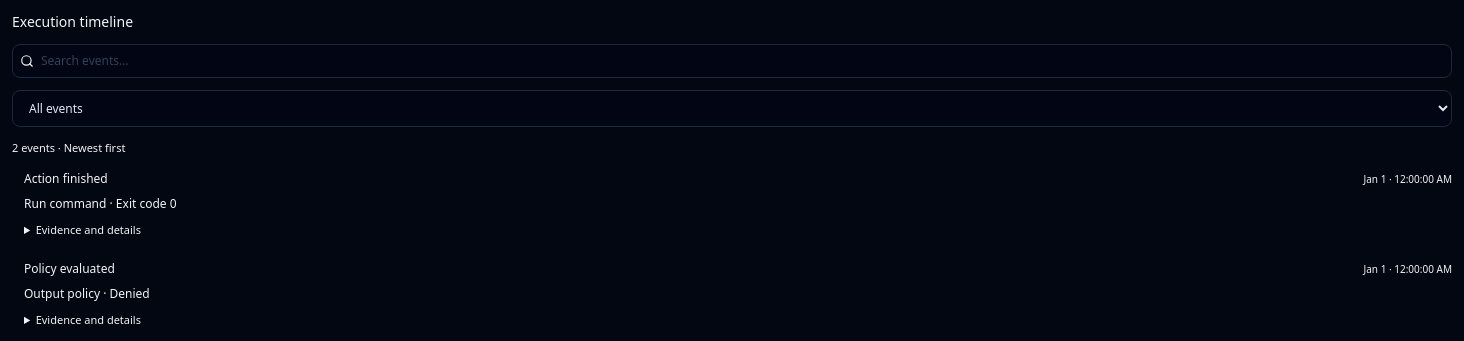
Test: workflow timeline reading › filters attention events using recorded decisions and preserves the source evidence
Select "Needs attention" in the dropdown named "Filter timeline" at x=732, y=108, box [12,90,1452,127]
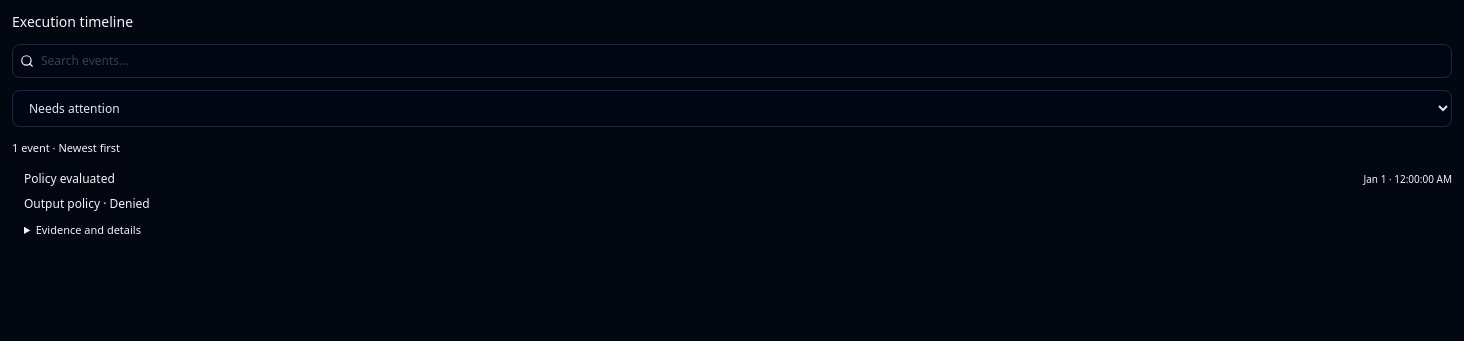
Expected: the text "Output policy · Denied" is shown, [24,195,150,212]
Expected: the number of list items is 1, [12,169,1452,239]
